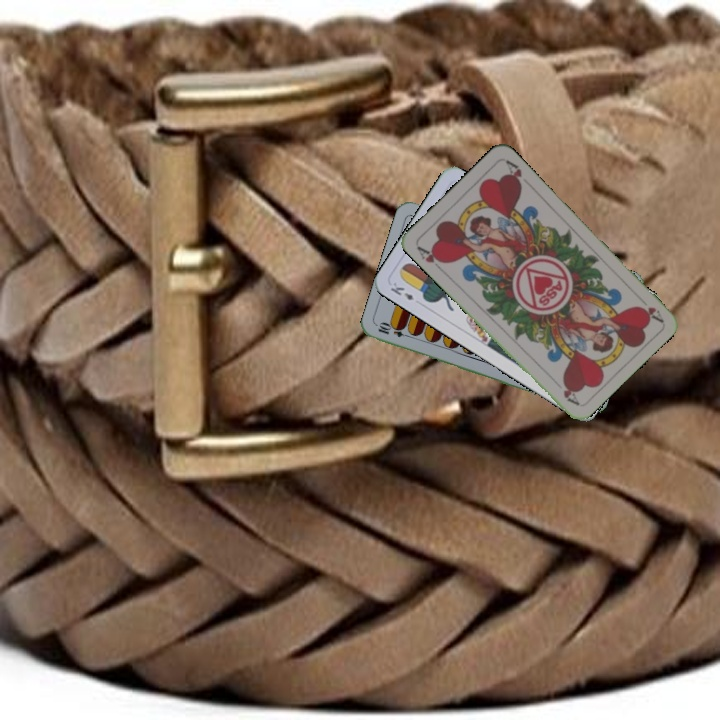E10: (374, 320, 414, 340)
EK: (386, 278, 417, 303)
HA: (413, 242, 448, 274), (633, 291, 665, 325)
